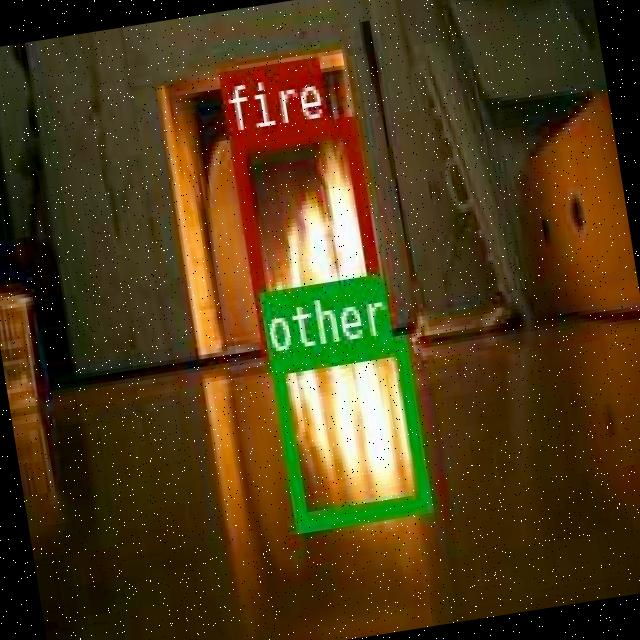fire: (228, 116, 386, 362)
